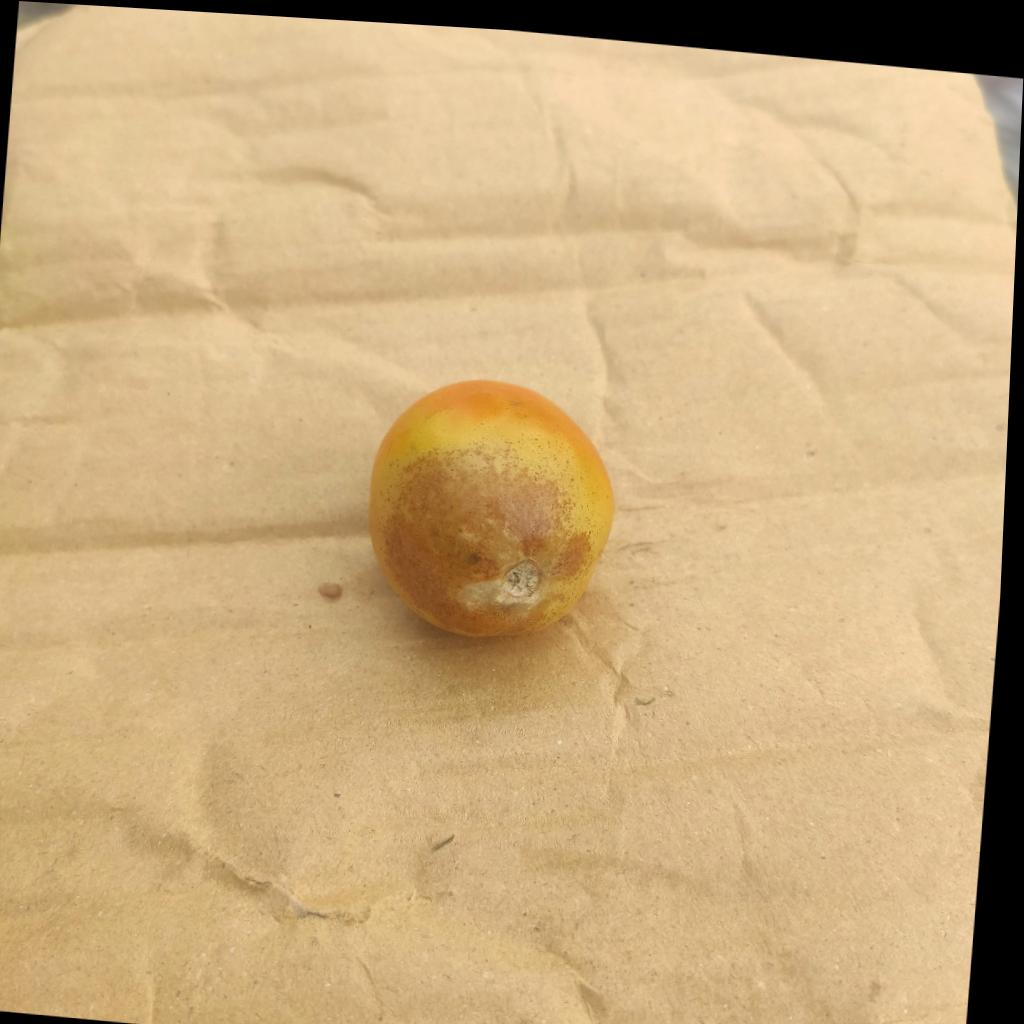bruise_discoloration: (366, 403, 609, 636)
tomato: (369, 380, 611, 635)
